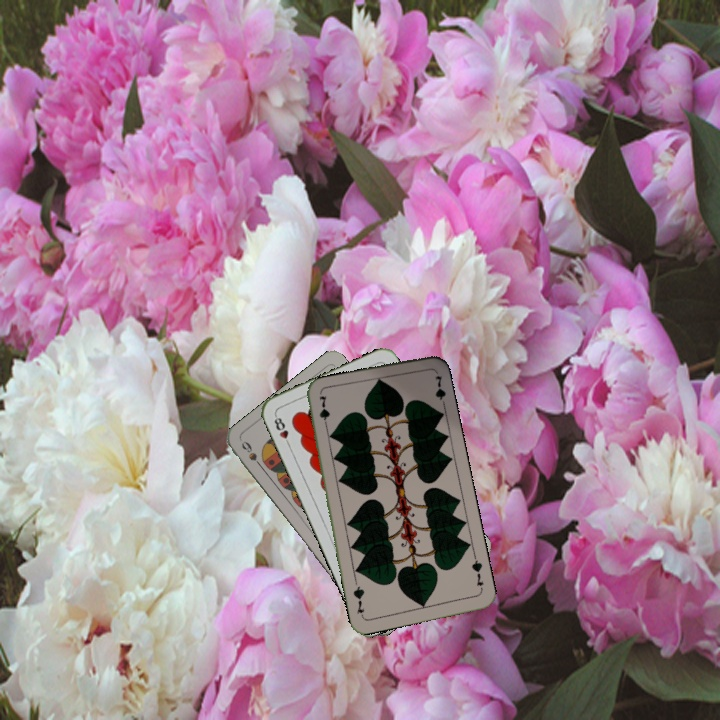G7: (468, 553, 486, 593), (315, 392, 331, 433)
H8: (270, 411, 293, 449)
S9: (237, 437, 267, 472)
